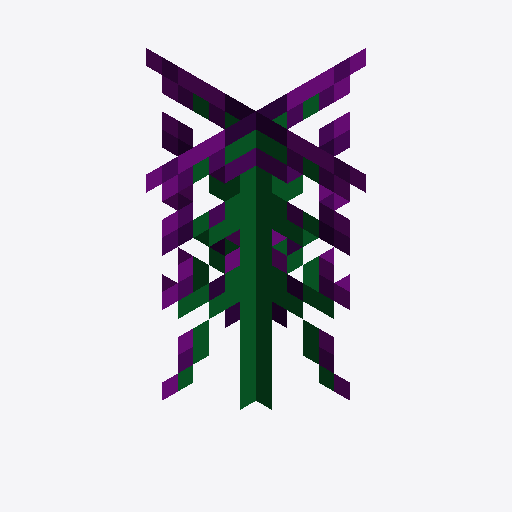
Isometric view (azimuth 45°, elevation 35.3°) of a Minecraft model made of 66 cuboids, textured from the same repository.
Visible parts, largest first — BottomStalk (×2), element 29, element 60, element 6, element 31, element 57, element 62, element 2, element 59, element 30, element 63, element 3 (+27 smaller).
Part boxes in pixels (x1,y1,x2,y2): BottomStalk (×2): (240, 102, 271, 409); element 29: (209, 193, 239, 246); element 60: (272, 193, 302, 246); element 6: (178, 320, 208, 372); element 31: (162, 202, 192, 255); element 57: (303, 320, 333, 372); element 62: (319, 202, 349, 255); element 2: (225, 247, 239, 327); element 59: (272, 247, 286, 327); element 30: (319, 112, 349, 155); element 63: (162, 112, 192, 155); element 3: (225, 121, 239, 182).
Size of the model in its own units: 14 by 16 by 14.